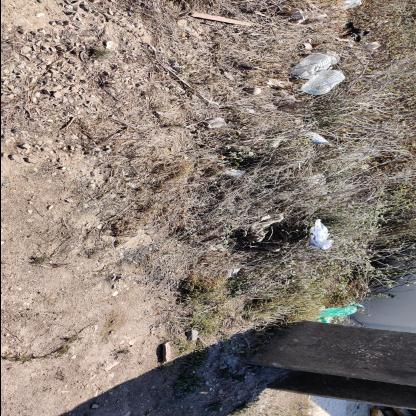karton: (203, 118, 227, 129)
plastik: (289, 51, 339, 81), (301, 70, 346, 96), (313, 305, 367, 324), (305, 220, 337, 252)
